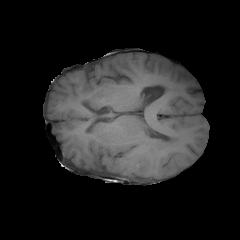glioma: (102, 107, 179, 171)
